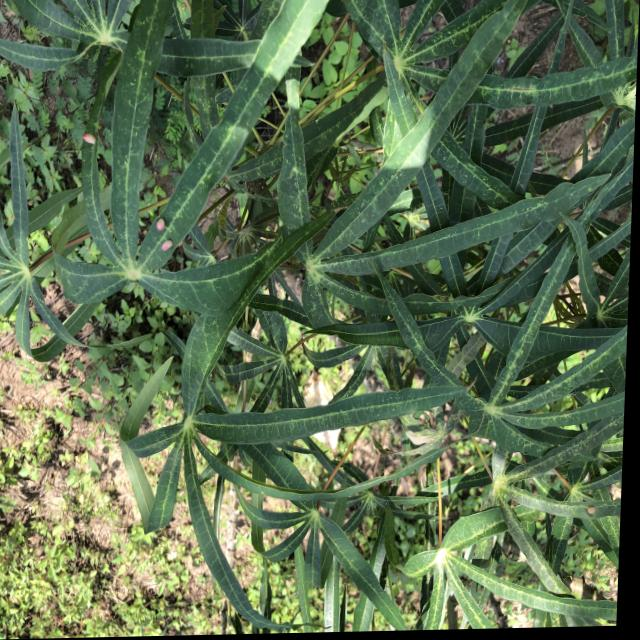Mosca: (152, 210, 176, 260), (69, 119, 102, 149), (547, 207, 573, 236), (314, 501, 334, 530)
